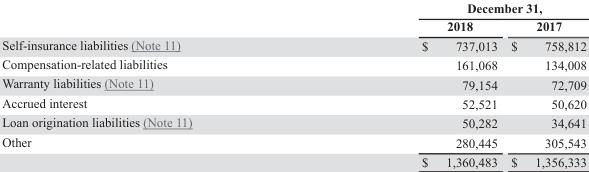table: (1, 0, 586, 168)
table column: (1, 0, 306, 168), (306, 0, 503, 168), (503, 0, 586, 168)
table column header: (1, 0, 586, 35)
table row: (1, 54, 586, 74), (1, 112, 586, 132), (1, 132, 586, 152), (1, 35, 586, 54), (1, 74, 586, 93), (1, 93, 586, 112), (1, 17, 586, 35), (1, 0, 586, 17), (1, 152, 586, 168)
table spanning cell: (306, 0, 586, 17)
